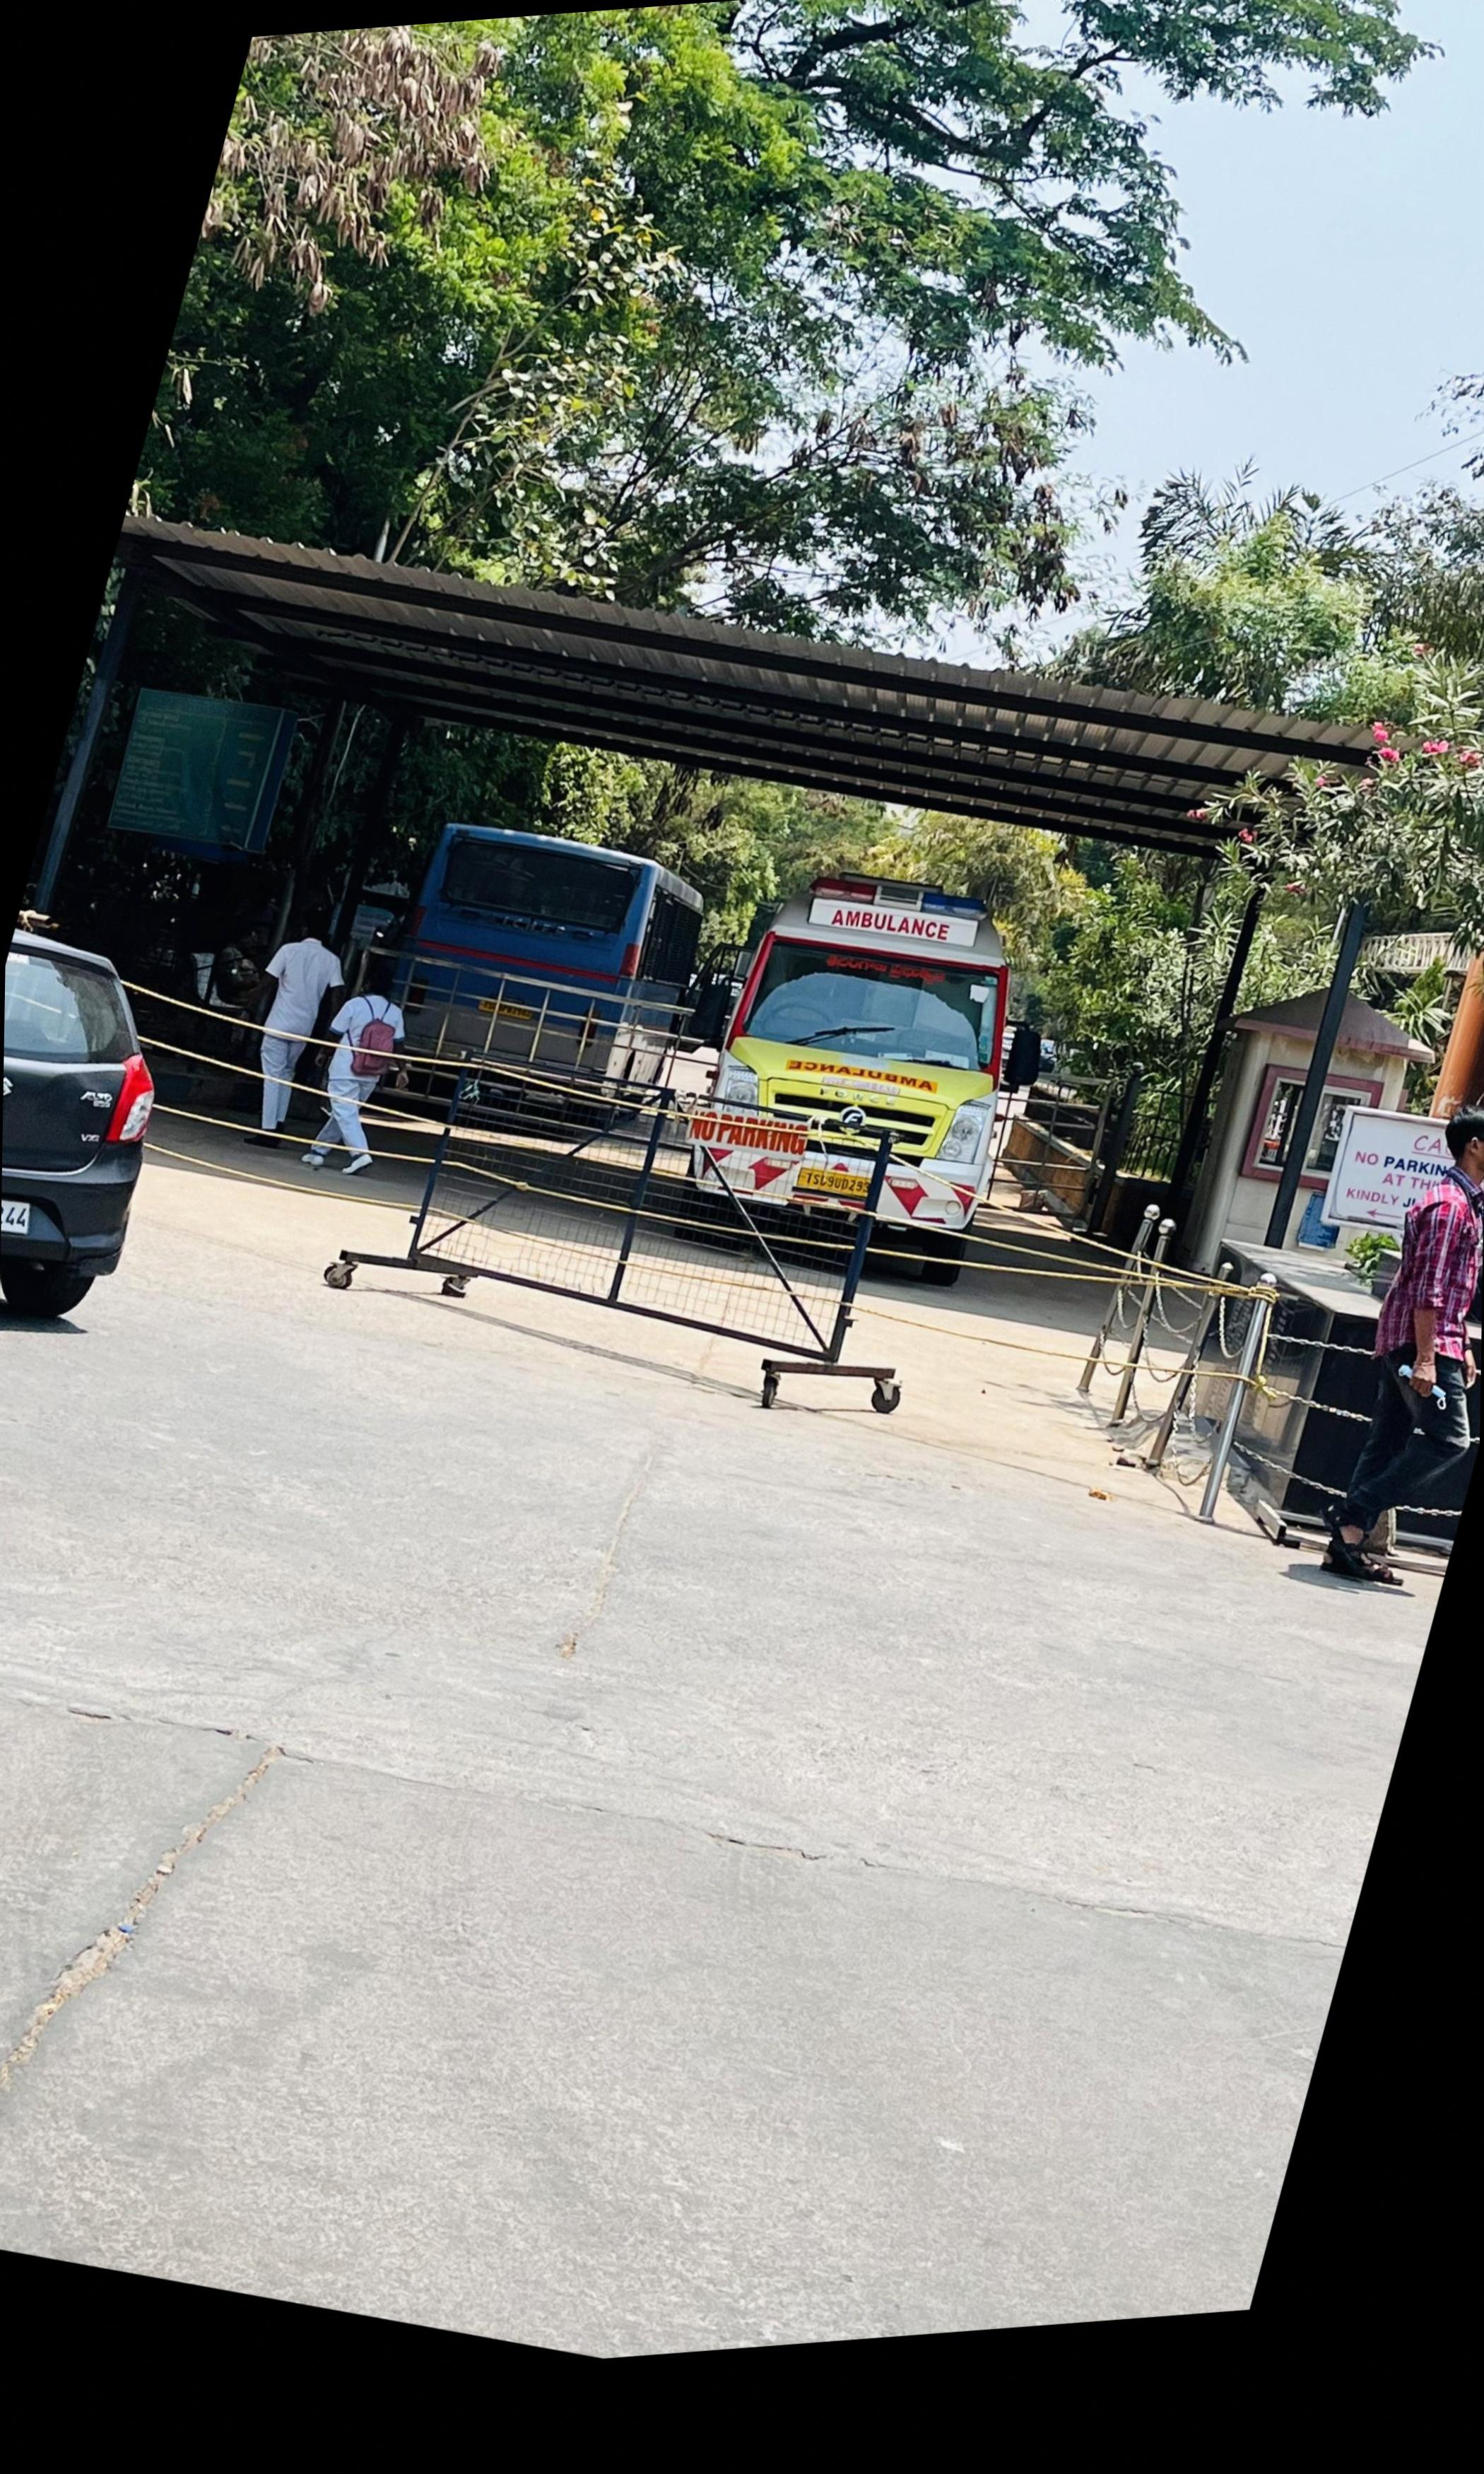ambulance: (696, 871, 1035, 1354)
